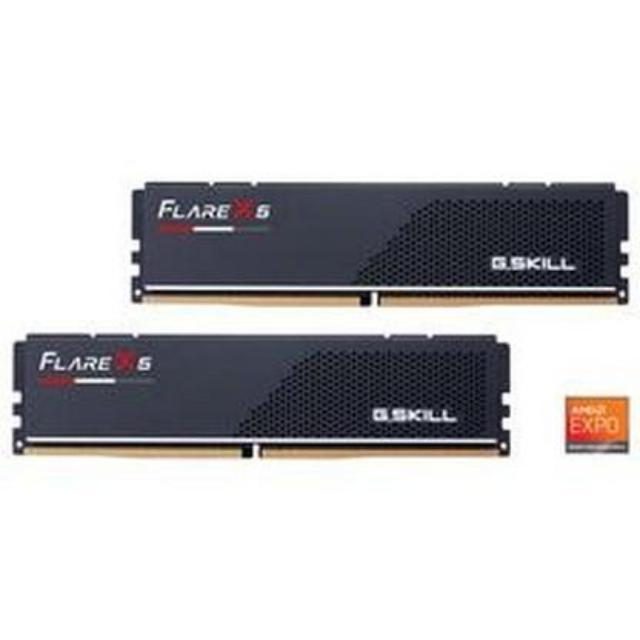RAM: (3, 322, 520, 482), (116, 172, 638, 324)
